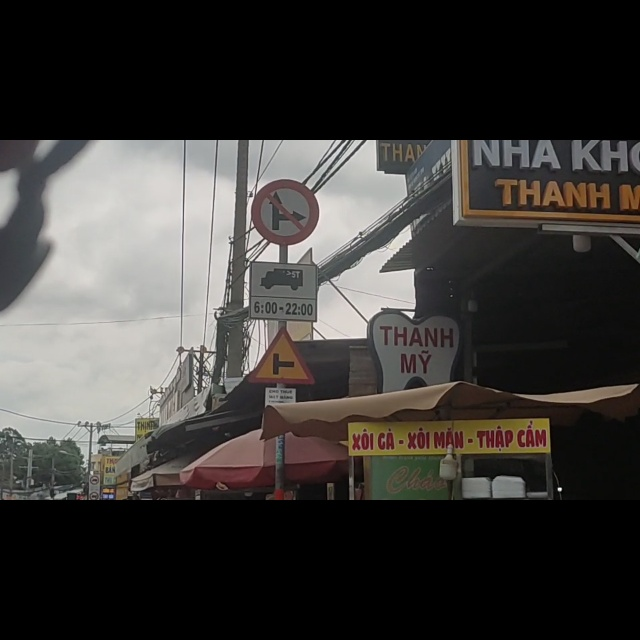bien_nguy_hiem: (253, 71, 319, 187), (249, 218, 315, 318), (251, 334, 316, 431)
